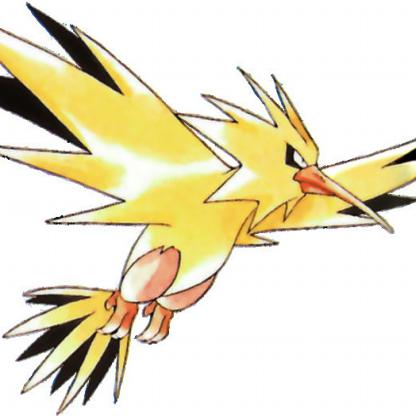Zapdos: (1, 11, 416, 404)
